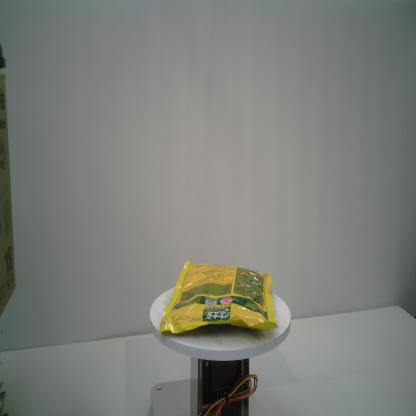Seasoner: (158, 258, 278, 336)
